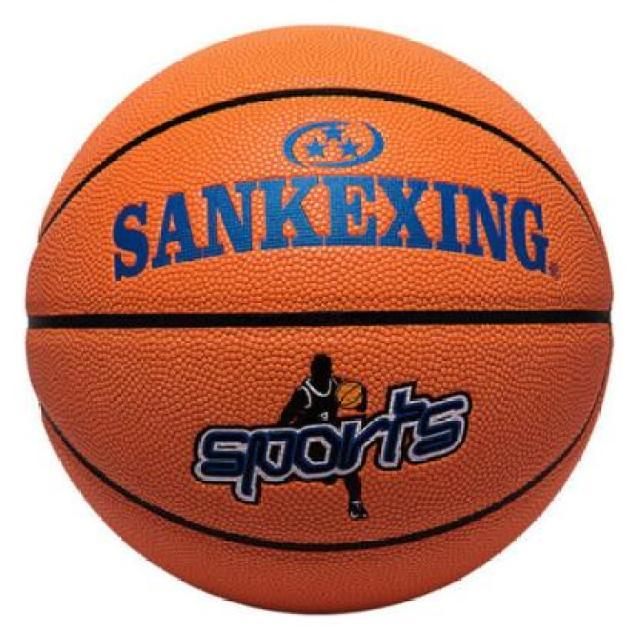basketball: (26, 20, 614, 614)
